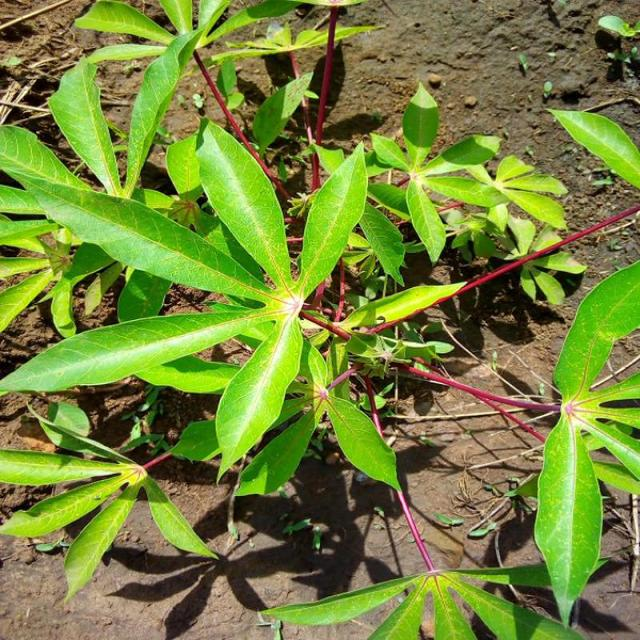cassava leaf: (0, 3, 638, 630)
